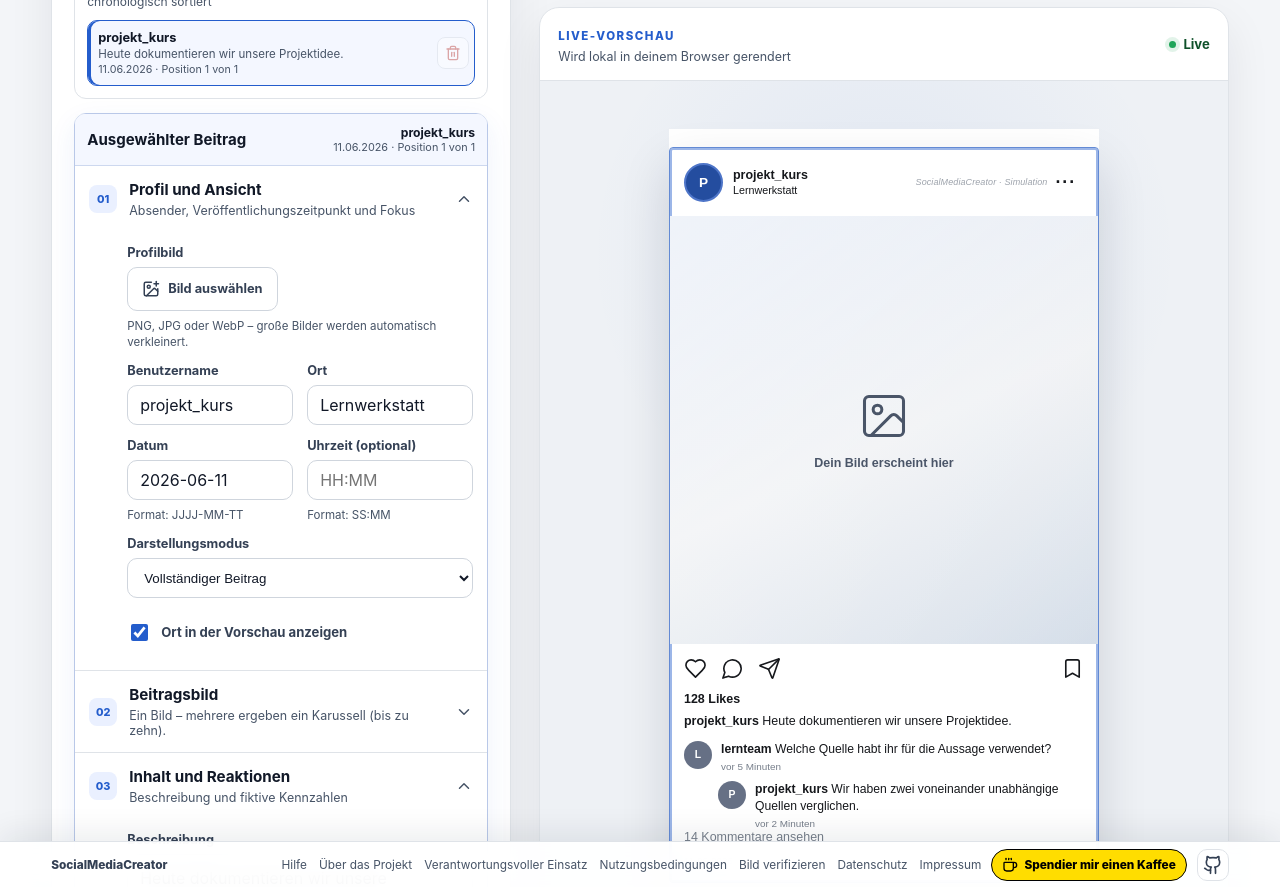
Test: App › switches language without changing user content and persists it
(page scrolled)
Replace the text in the field labelled "Benutzername" with "custom_account" at point(210, 405), box [127, 385, 293, 425]
(page scrolled)
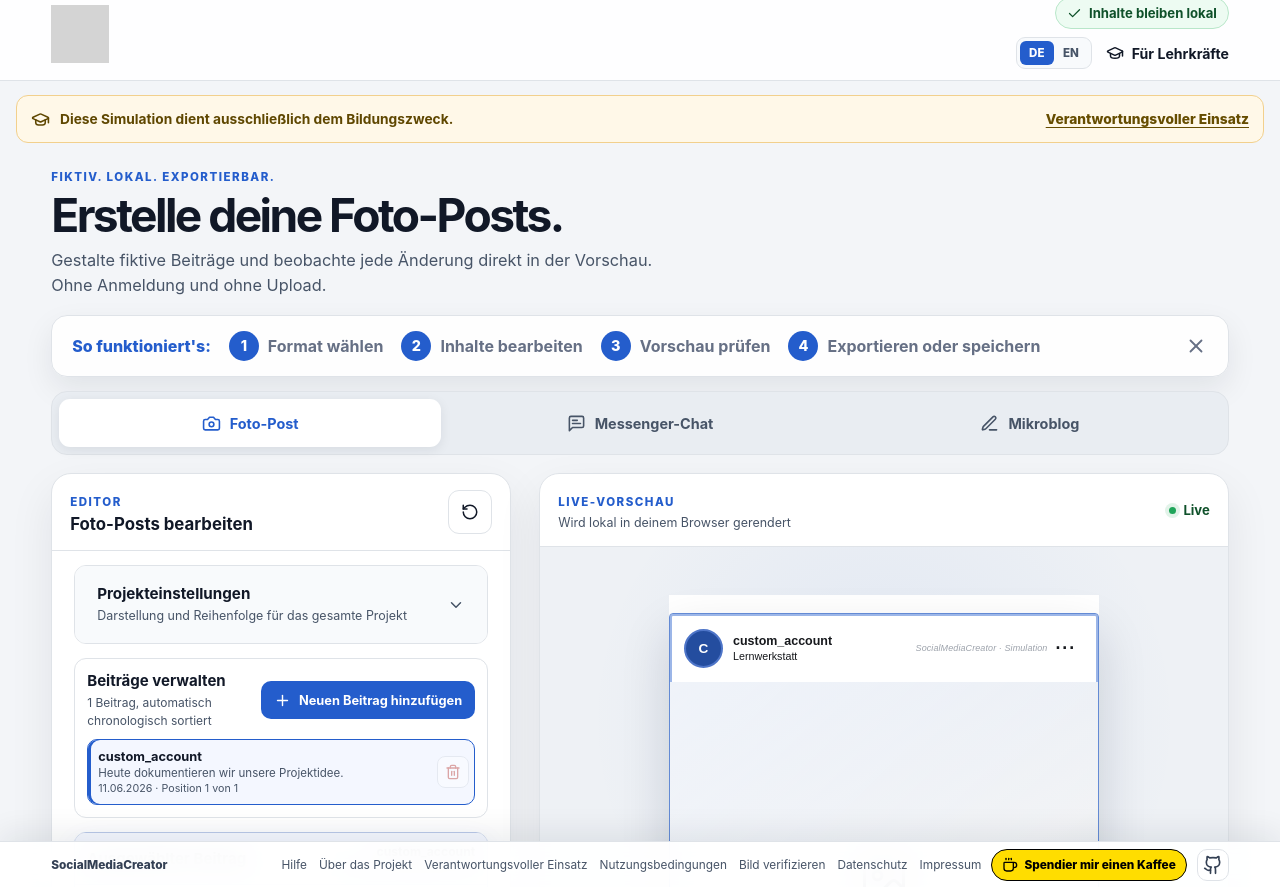
Click the button "EN" at point(1071, 53), box [1054, 41, 1088, 65]
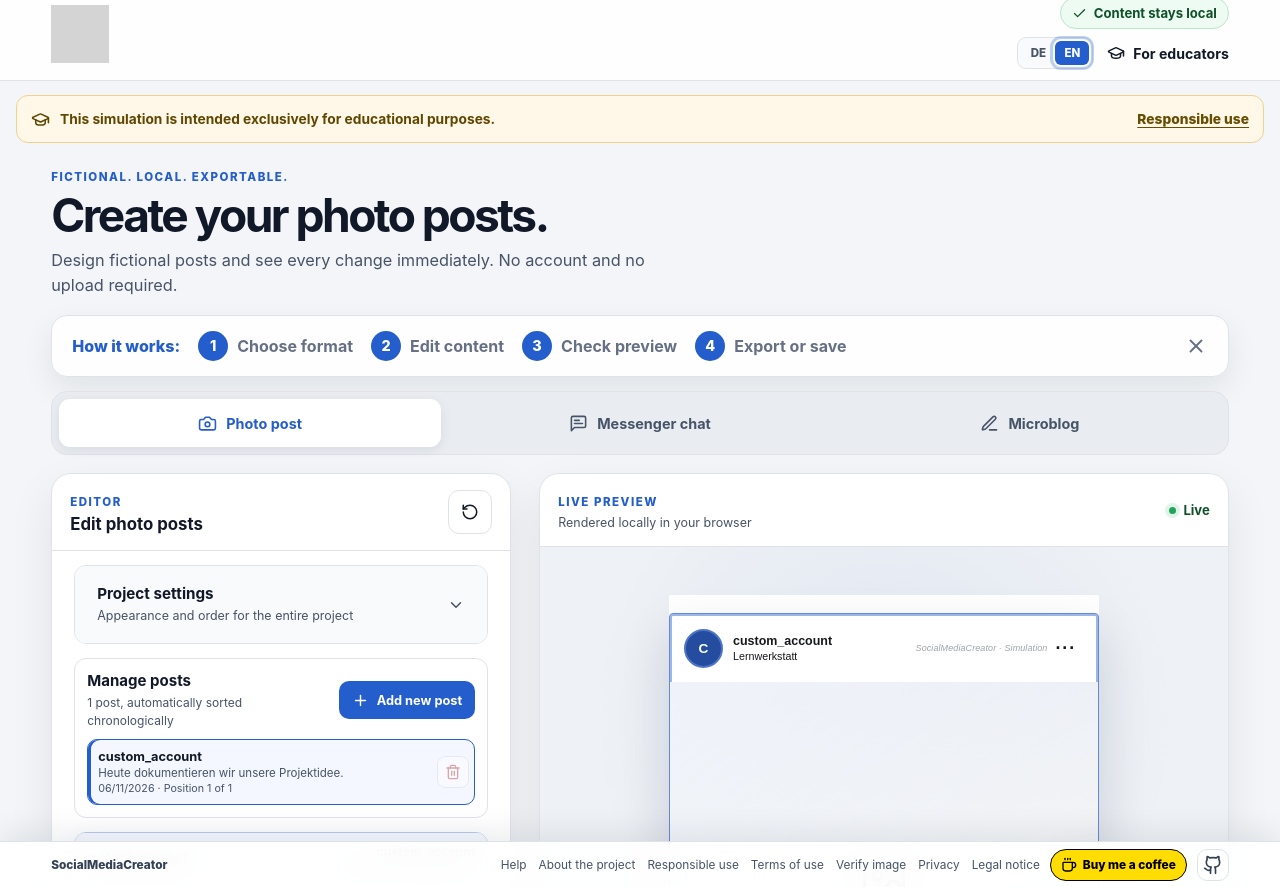
Result: the heading "Create your photo posts." is shown at [51, 187, 548, 243]
